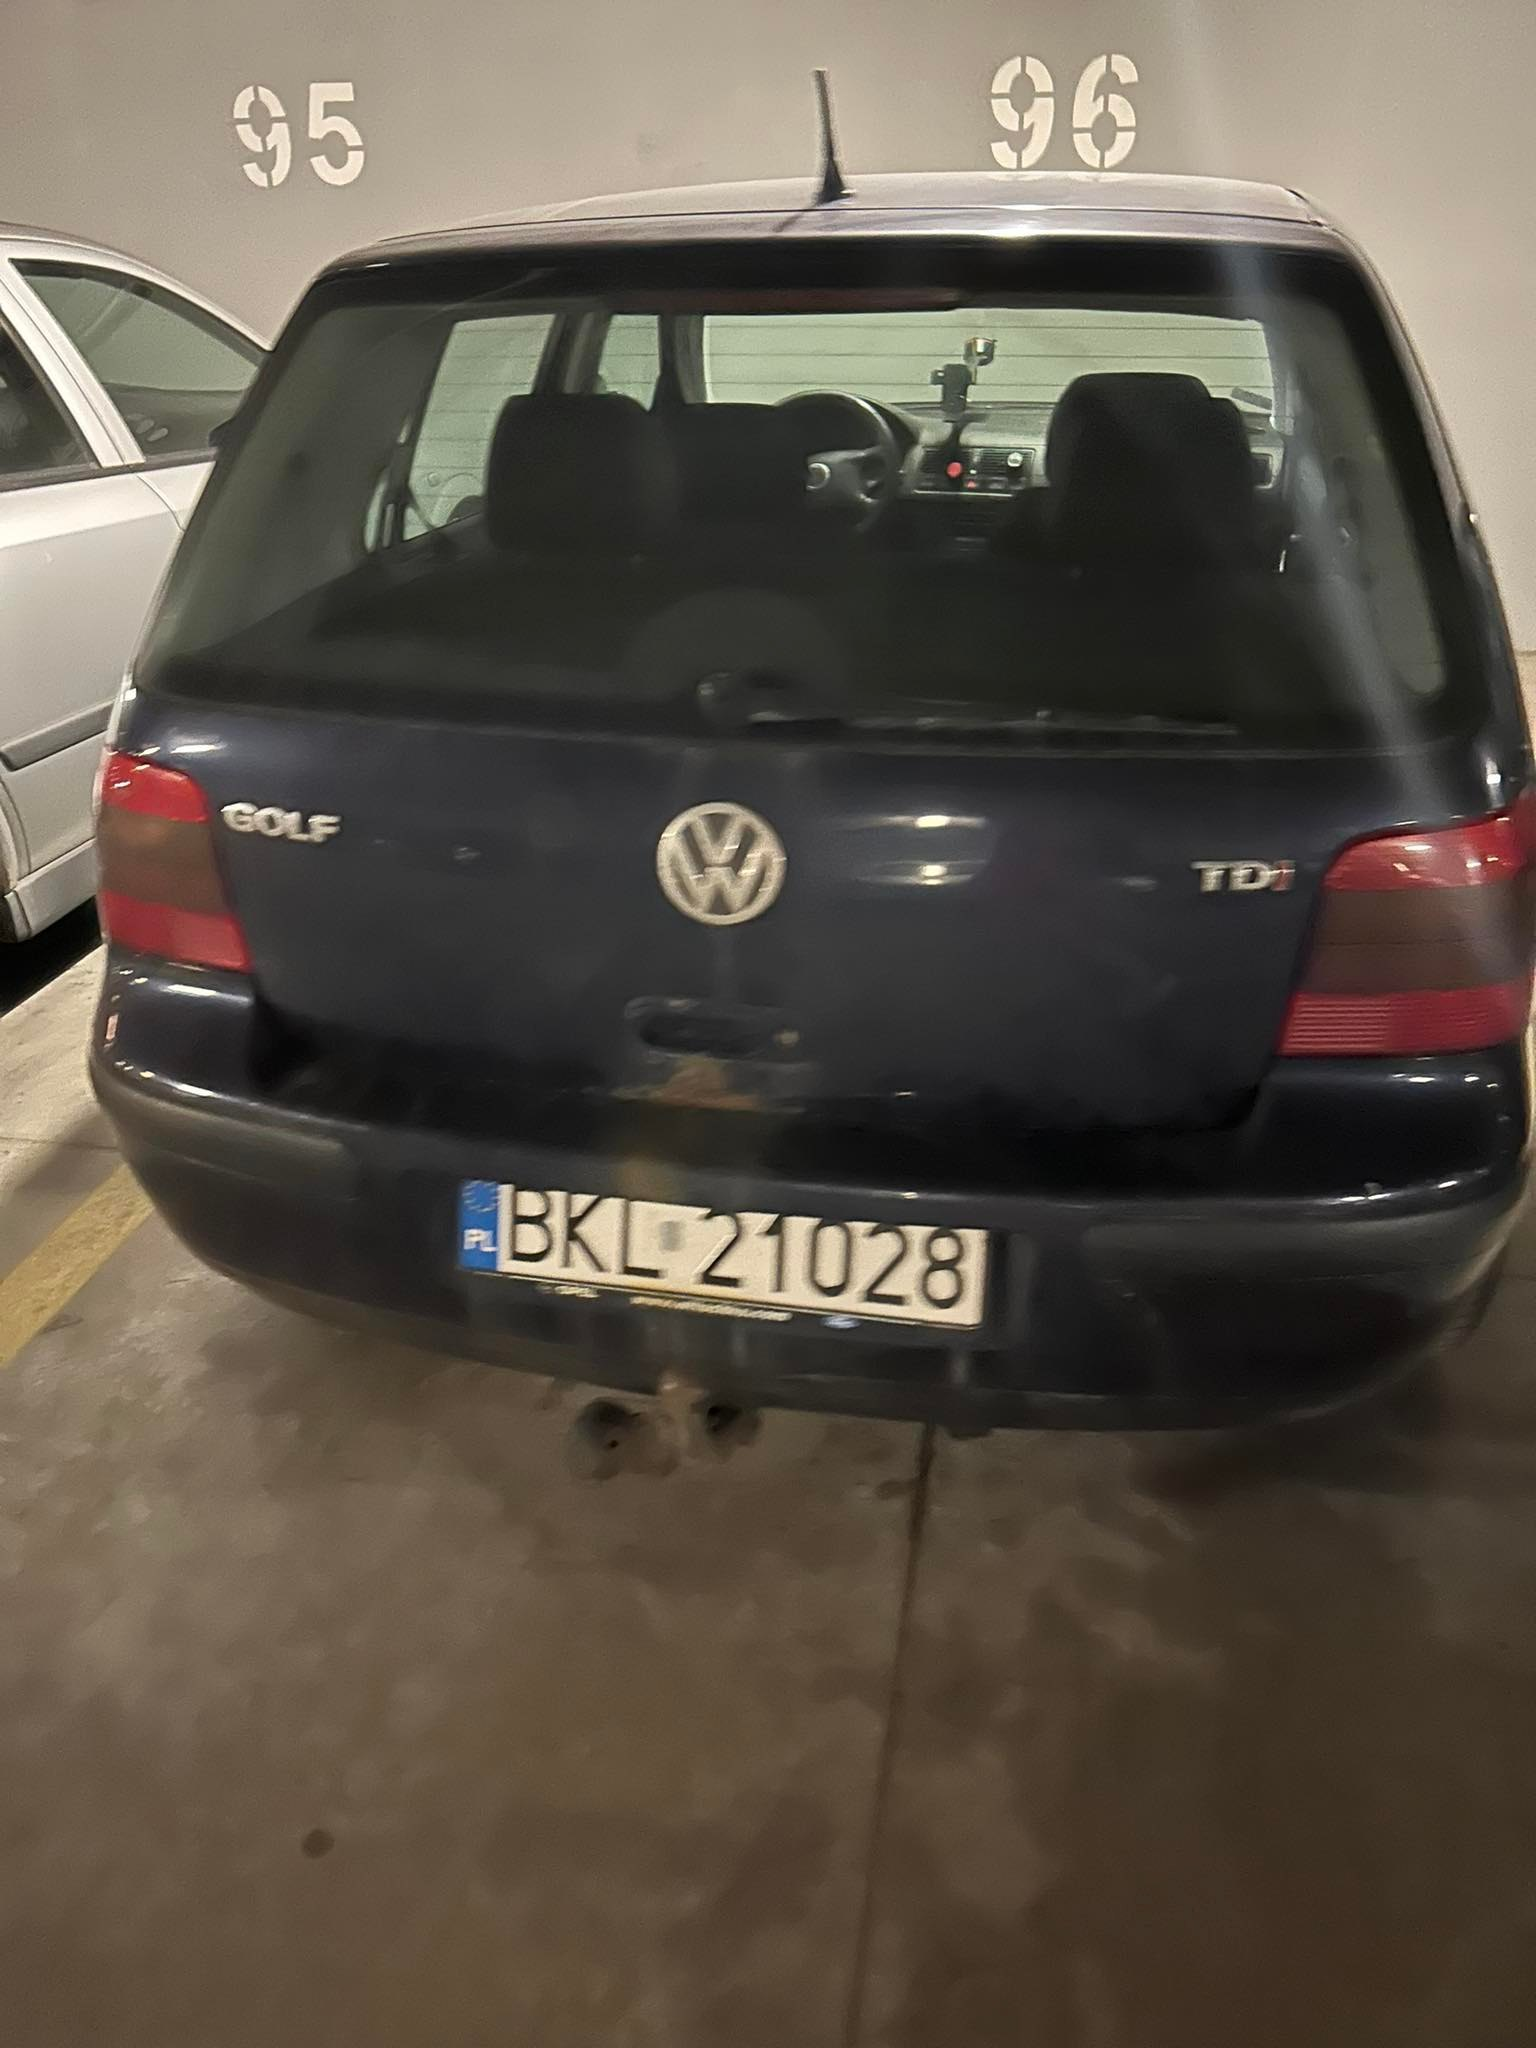number_plate: (454, 1179, 999, 1339)
